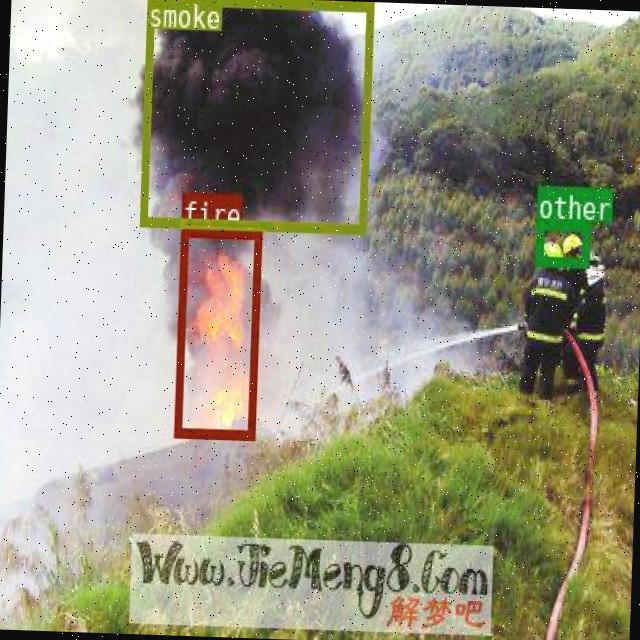fire: (172, 224, 260, 439)
smoke: (138, 0, 372, 230)
